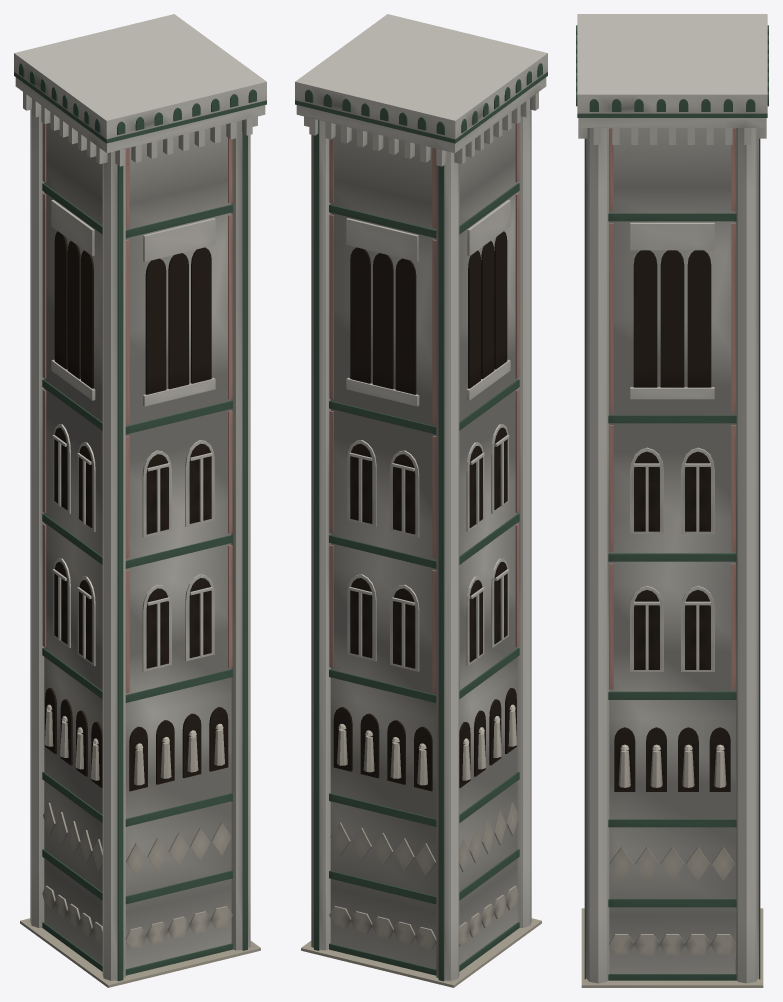
File: campanile.glb
3 renders of one model, left to right at view 1: azimuth 30°, elevation 25°; view 2: azimuth 150°, elevation 25°; view 3: azimuth 270°, elevation 25°, orthographic. The views are drawn at different scales.
Parts seen in each view (by area): view 1: p0_shaft, p1_marble, p2_cornice; view 2: p0_shaft, p1_marble, p2_cornice; view 3: p0_shaft, p1_marble, p2_cornice.
Part boxes in pixels (x1,y1,x2,y2): p0_shaft: (20, 109, 260, 987); p1_marble: (42, 123, 232, 975); p2_cornice: (14, 14, 266, 166); p0_shaft: (301, 109, 541, 987); p1_marble: (329, 123, 519, 975); p2_cornice: (295, 14, 547, 166); p0_shaft: (581, 128, 763, 987); p1_marble: (608, 128, 736, 980); p2_cornice: (576, 14, 768, 144).
Bounding box in the file's own units: 16.44 × 84.2 × 16.44.
